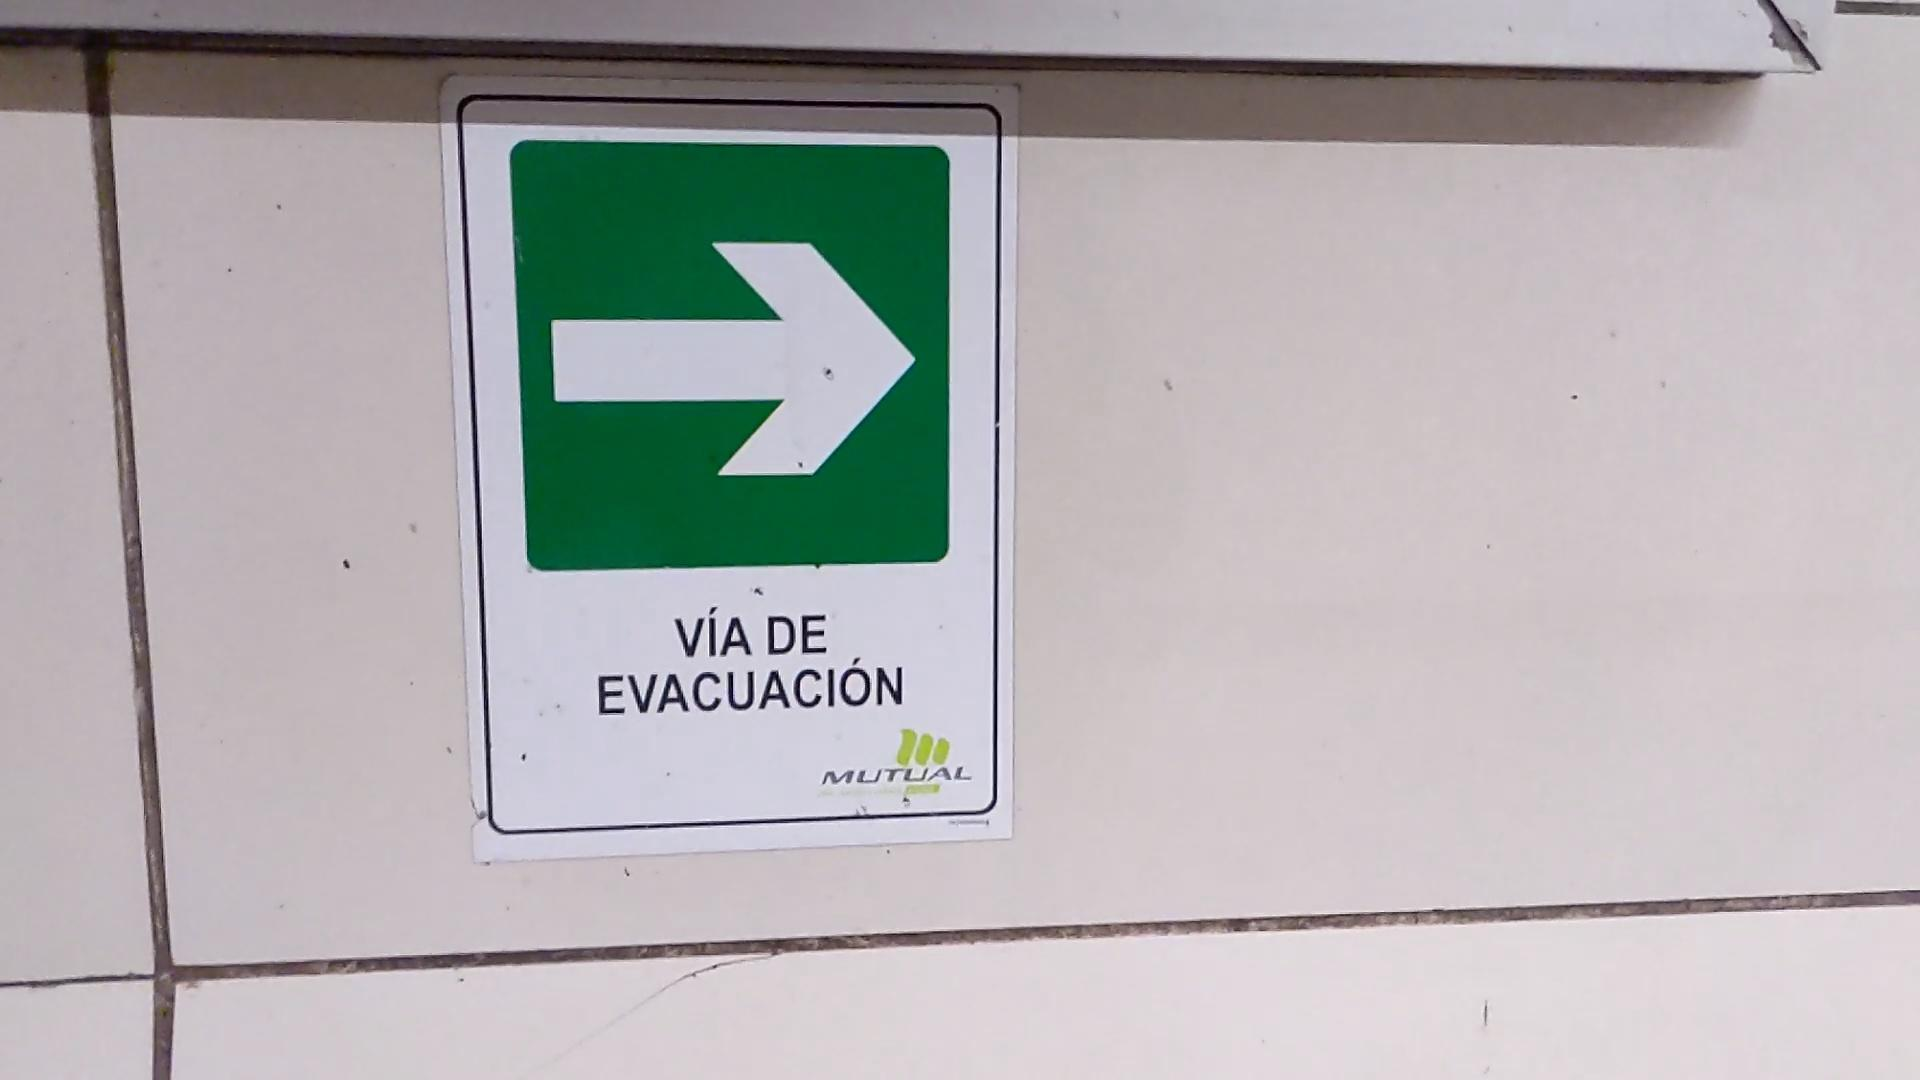emergency right arrow: (545, 229, 924, 487)
